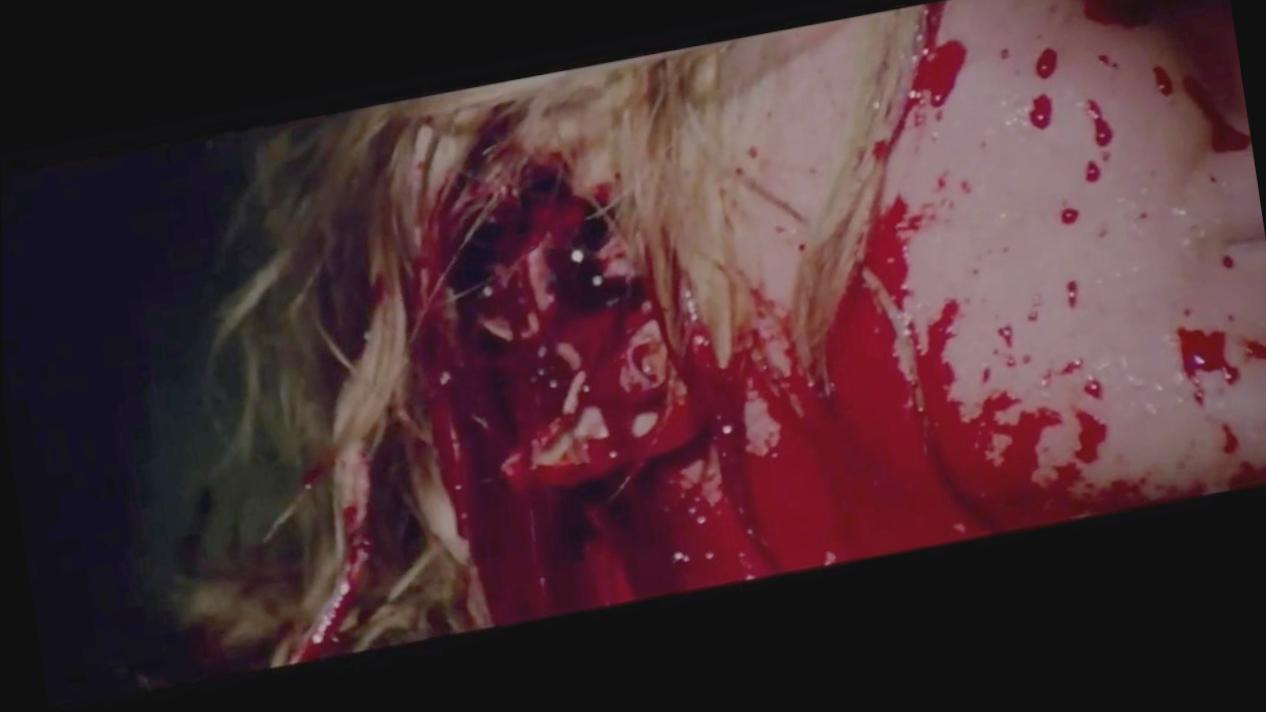Fire: (292, 0, 1266, 658)
